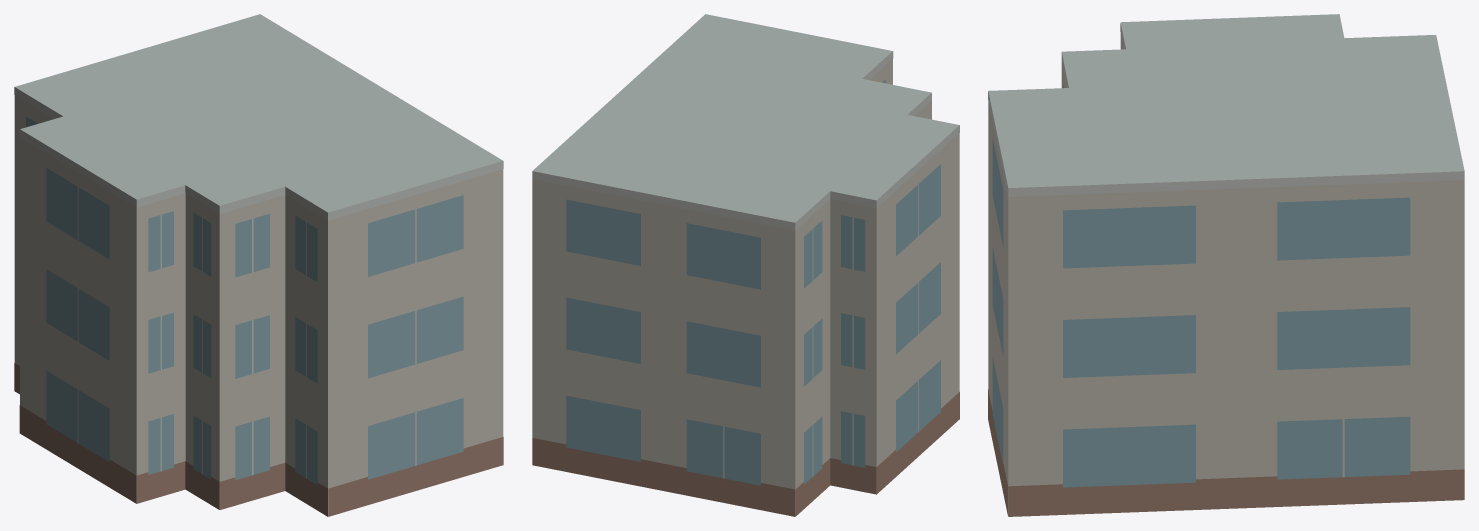
Rendered from survey-upis-32987990.glb.
The picture shows the model from 3 angles, left to right: view 1: azimuth 30°, elevation 25°; view 2: azimuth 150°, elevation 25°; view 3: azimuth 270°, elevation 25°; orthographic projection. The views are drawn at different scales.
Parts seen in each view (by area): view 1: survey-upis-32987990.tmp; view 2: survey-upis-32987990.tmp; view 3: survey-upis-32987990.tmp.
Part boxes in pixels (box(x1,y1,x2,y2)): survey-upis-32987990.tmp: box(14, 14, 503, 516); survey-upis-32987990.tmp: box(532, 14, 959, 516); survey-upis-32987990.tmp: box(988, 14, 1464, 516).
Bounding box in the file's own units: 10.41 × 9.15 × 12.03.
